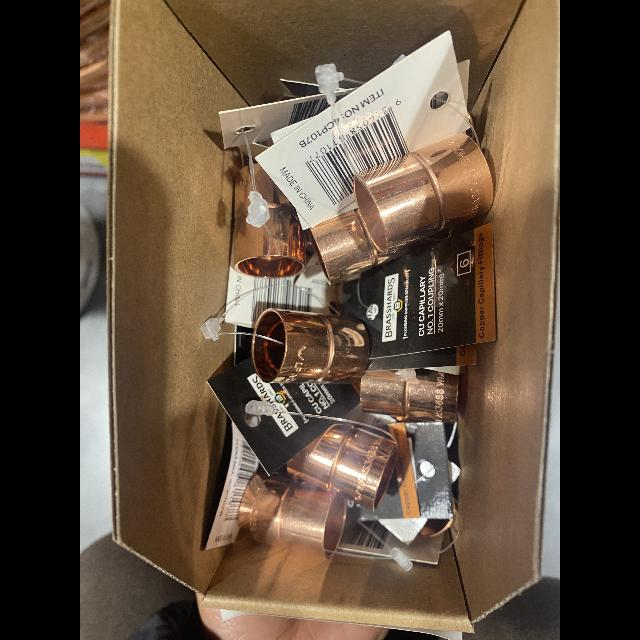Copper: (355, 133, 493, 255), (237, 471, 346, 558), (288, 424, 395, 510), (253, 308, 369, 384), (234, 165, 304, 279), (308, 209, 407, 286), (361, 371, 456, 423), (80, 0, 107, 123)
